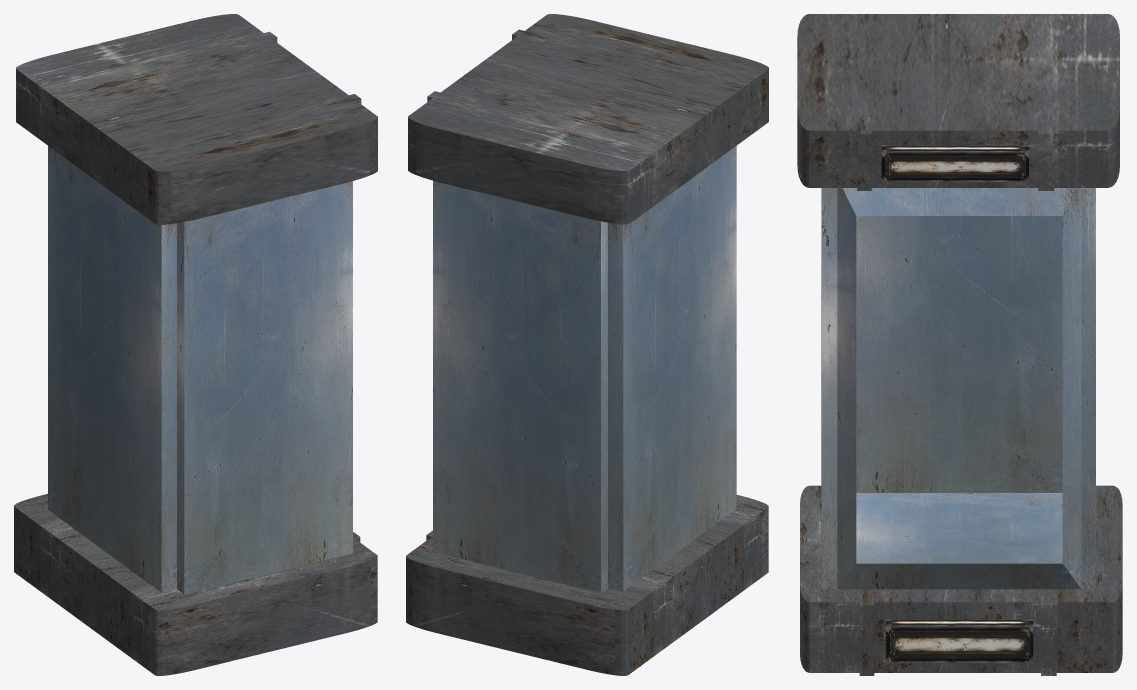
The model's file is celda.obj.
3 renders of one model, left to right at view 1: azimuth 30°, elevation 25°; view 2: azimuth 150°, elevation 25°; view 3: azimuth 270°, elevation 25°, orthographic. The views are drawn at different scales.
Parts seen in each view (by area): view 1: Cube.172, Cube.171, Cube.170; view 2: Cube.172, Cube.171, Cube.170; view 3: Cube.172, Cube.171, Cube.170, Cube.166, Cube.158.
Part boxes in pixels (x1,y1,x2,y2): Cube.172: [48, 146, 352, 594]; Cube.171: [16, 14, 377, 224]; Cube.170: [14, 494, 377, 675]; Cube.172: [433, 146, 736, 592]; Cube.171: [408, 14, 768, 224]; Cube.170: [406, 495, 768, 675]; Cube.172: [821, 188, 1095, 589]; Cube.171: [797, 14, 1119, 190]; Cube.170: [800, 485, 1122, 675]; Cube.166: [885, 619, 1033, 663]; Cube.158: [881, 145, 1028, 182].
Bounding box in the file's own units: 3.8 × 7.8 × 4.24.
